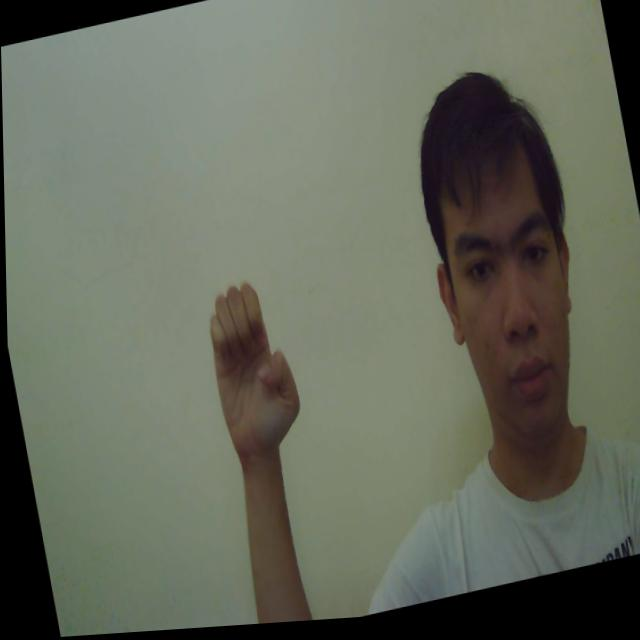E: (199, 275, 308, 468)
